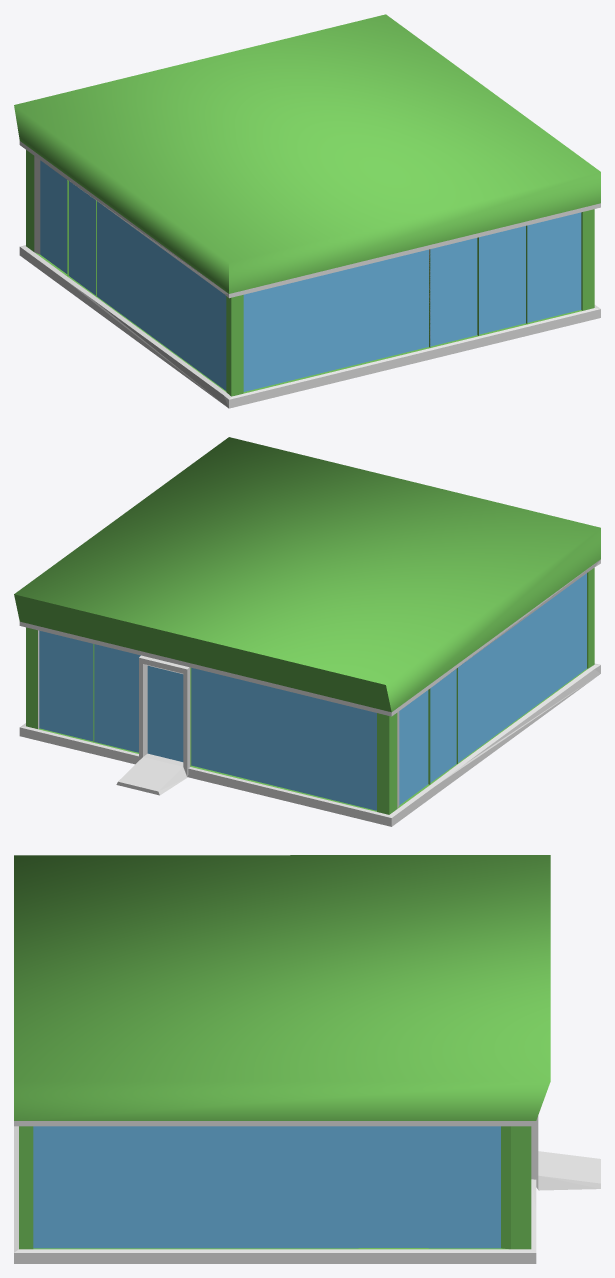
The model's file is Shop8x8x3Green.fbx.
The picture shows the model from 3 angles, top to bottom: view 1: azimuth 30°, elevation 25°; view 2: azimuth 150°, elevation 25°; view 3: azimuth 270°, elevation 25°; orthographic projection. The views are drawn at different scales.
Parts seen in each view (by area): view 1: Shop.001; view 2: Shop.001; view 3: Shop.001.
Part boxes in pixels (x1,y1,x2,y2): Shop.001: [14, 14, 600, 408]; Shop.001: [14, 437, 600, 826]; Shop.001: [14, 855, 600, 1263].
Size of the model in its own units: 7.96 by 2.99 by 8.72.
Materials: 1 (1 with a texture image).
